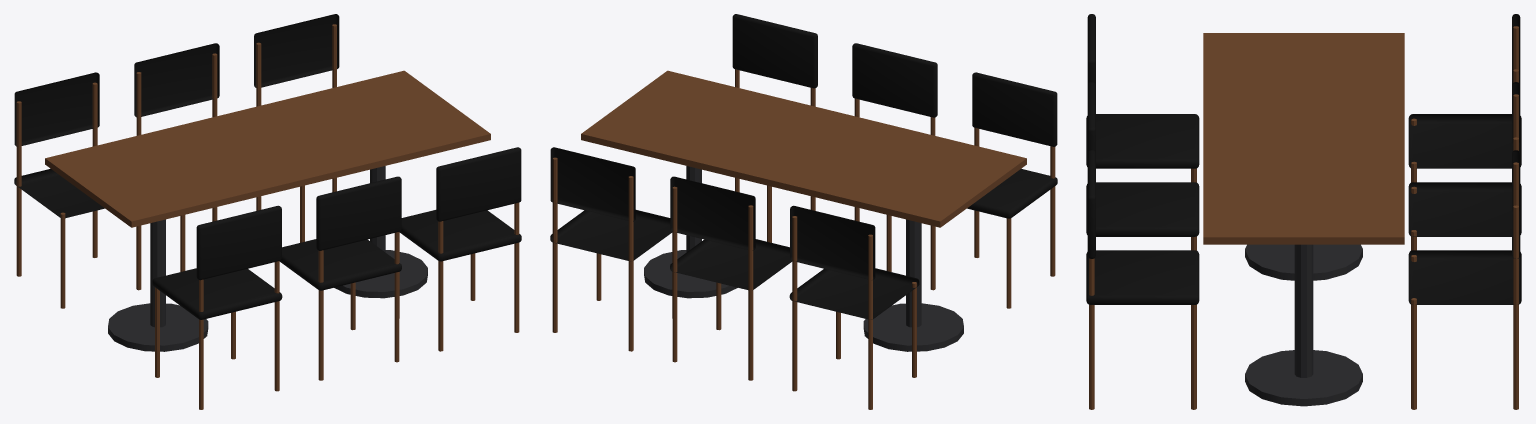
Rendered from hospitality.dining.table_6.glb.
3 renders of one model, left to right at view 1: azimuth 30°, elevation 25°; view 2: azimuth 150°, elevation 25°; view 3: azimuth 270°, elevation 25°, orthographic. The views are drawn at different scales.
Visible parts, largest first — view 1: chairs__leather_black, table__hardwood, chairs__hardwood, table__cast_iron; view 2: chairs__leather_black, table__hardwood, chairs__hardwood, table__cast_iron; view 3: table__hardwood, chairs__leather_black, table__cast_iron, chairs__hardwood.
Boxes of the visible parts, x1,y1,x2,y2 form: chairs__leather_black: (14,14,521,319); table__hardwood: (45,70,490,227); chairs__hardwood: (16,24,519,409); table__cast_iron: (108,166,427,351); chairs__leather_black: (550,14,1057,319); table__hardwood: (581,70,1026,227); chairs__hardwood: (552,69,1055,409); table__cast_iron: (644,166,963,351); table__hardwood: (1203,33,1404,244); chairs__leather_black: (1086,14,1521,304); table__cast_iron: (1245,244,1362,406); chairs__hardwood: (1089,26,1518,409).
Bounding box in the file's own units: 1.8 × 0.88 × 1.62.
